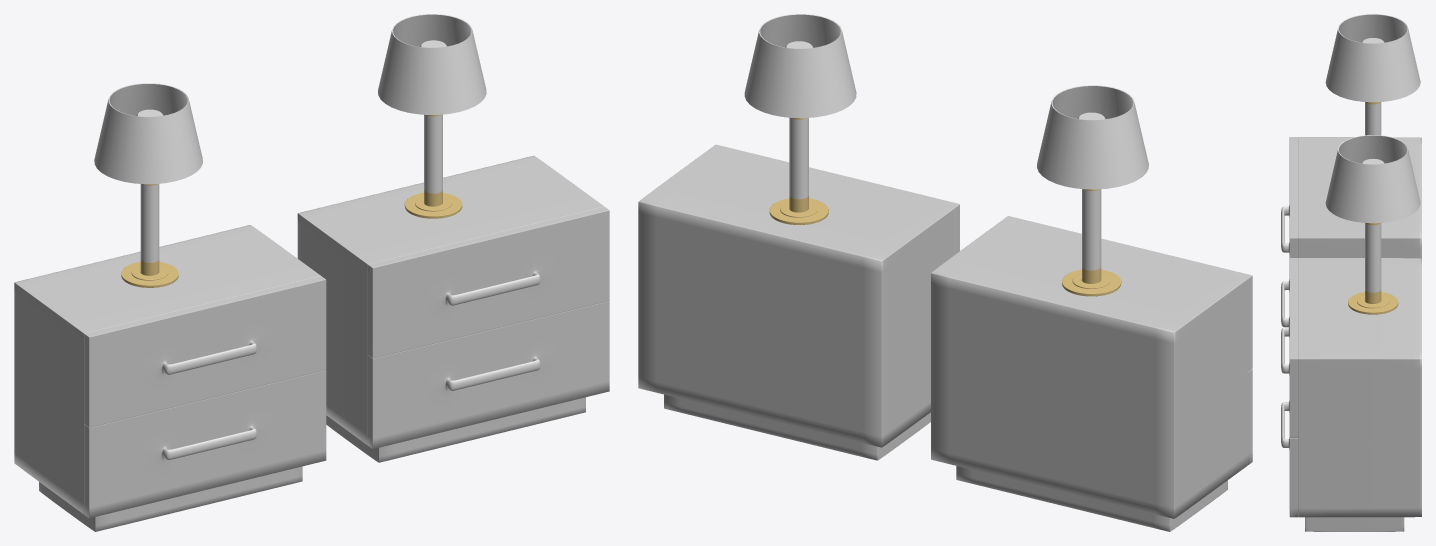
File: white side table.fbx
3 renders of one model, left to right at view 1: azimuth 30°, elevation 25°; view 2: azimuth 150°, elevation 25°; view 3: azimuth 270°, elevation 25°, orthographic. The views are drawn at different scales.
Parts seen in each view (by area): view 1: bedside table, bedside table.001, Circle.001, Circle.002, Circle, Circle.003; view 2: bedside table, bedside table.001, Circle.002, Circle.001, Circle, Circle.003; view 3: bedside table.001, bedside table, Circle.001, Circle.002, Circle.003, Circle.
Boxes of the visible parts, x1,y1,x2,y2 form: bedside table: (14,225,326,531); bedside table.001: (297,155,609,462); Circle.001: (94,83,202,184); Circle.002: (378,14,486,114); Circle: (121,109,178,287); Circle.003: (404,40,462,218); bedside table: (931,216,1252,531); bedside table.001: (638,144,959,460); Circle.002: (744,14,856,118); Circle.001: (1037,85,1148,189); Circle: (1062,112,1121,296); Circle.003: (769,41,828,224); bedside table.001: (1281,258,1421,531); bedside table: (1281,137,1421,327); Circle.001: (1325,14,1420,102); Circle.002: (1325,135,1420,223); Circle.003: (1348,158,1398,314); Circle: (1362,38,1384,135).
Size of the model in its own units: 113 by 79.38 by 30.41.
